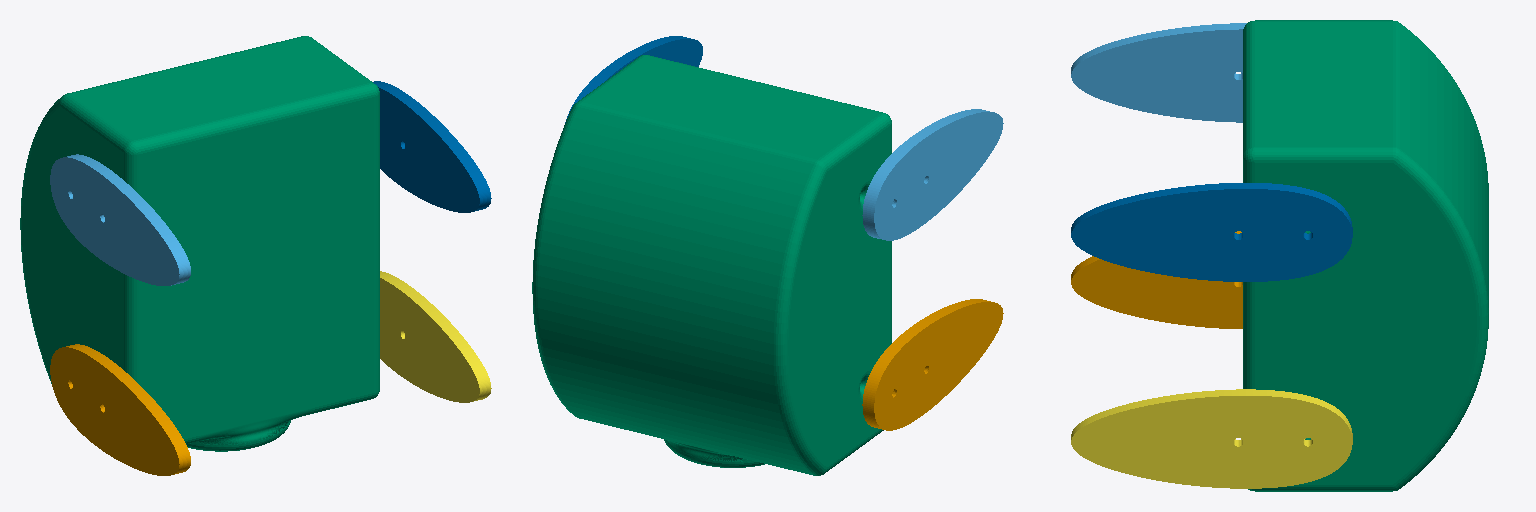
The robot description file, URDF, robot "Zusammenbau":
<?xml version='1.0' encoding='utf-8'?>
<robot name="Zusammenbau">
    <link name="Lasercut-Bein-v4_1">
        <inertial>
            <origin xyz="-7.732513815916776e-09 -0.029593108750116903 0.00969999999999997" rpy="0.0 -0.0 0.0" />
            <mass value="0.10052712077422415" />
            <inertia ixx="5.756968816404196e-05" iyy="7.802639793603192e-06" izz="6.495346495441918e-05" ixy="1.7491960679384688e-11" iyz="-5.421010862427522e-20" ixz="0.0" />
        </inertial>
        <visual name="Lasercut-Bein-v4_visual_1">
            <origin xyz="0.0 6.106226635438361e-18 0.012199999999999971" rpy="-0.0 1.5707963267948966 0" />
            <geometry>
                <mesh filename="meshes/Lasercut-Bein-v4.stl" scale="0.001 0.001 0.001" />
            </geometry>
        </visual>
        <collision name="Lasercut-Bein-v4_collision_1">
            <origin xyz="0.0 6.106226635438361e-18 0.012199999999999971" rpy="-0.0 1.5707963267948966 0" />
            <geometry>
                <mesh filename="meshes/Lasercut-Bein-v4.stl" scale="0.001 0.001 0.001" />
            </geometry>
        </collision>
    </link>
    <link name="Lasercut-Bein-v4_2">
        <inertial>
            <origin xyz="-7.732513802594099e-09 -0.029593108750116916 0.009699999999999988" rpy="0.0 -0.0 0.0" />
            <mass value="0.10052712077422415" />
            <inertia ixx="5.756968816404207e-05" iyy="7.802639793603409e-06" izz="6.495346495441923e-05" ixy="1.7491960706489743e-11" iyz="2.710505431213761e-20" ixz="5.421010862427522e-20" />
        </inertial>
        <visual name="Lasercut-Bein-v4_visual_2">
            <origin xyz="1.7763568394002505e-17 5.551115123125783e-18 0.012199999999999997" rpy="-0.0 1.5707963267948966 0" />
            <geometry>
                <mesh filename="meshes/Lasercut-Bein-v4.stl" scale="0.001 0.001 0.001" />
            </geometry>
        </visual>
        <collision name="Lasercut-Bein-v4_collision_2">
            <origin xyz="1.7763568394002505e-17 5.551115123125783e-18 0.012199999999999997" rpy="-0.0 1.5707963267948966 0" />
            <geometry>
                <mesh filename="meshes/Lasercut-Bein-v4.stl" scale="0.001 0.001 0.001" />
            </geometry>
        </collision>
    </link>
    <link name="Simplified-Body-v5">
        <inertial>
            <origin xyz="-9.069781144017234e-12 0.011212337995359445 -0.0011157121807291311" rpy="0.0 0.0 0.0" />
            <mass value="8.078195204080657" />
            <inertia ixx="0.01414825495666961" iyy="0.01794786646058807" izz="0.01161148565624303" ixy="-1.196013774368557e-12" iyz="-0.00010121621754653205" ixz="-4.671915868799006e-12" />
        </inertial>
        <visual name="Simplified-Body-v5_visual">
            <origin xyz="0.0 0.0 0.0" rpy="0.0 0.0 0.0" />
            <geometry>
                <mesh filename="meshes/Simplified-Body-v5.stl" scale="0.001 0.001 0.001" />
            </geometry>
        </visual>
        <collision name="Simplified-Body-v5_collision">
            <origin xyz="0.0 0.0 0.0" rpy="0.0 0.0 0.0" />
            <geometry>
                <mesh filename="meshes/Simplified-Body-v5.stl" scale="0.001 0.001 0.001" />
            </geometry>
        </collision>
    </link>
    <link name="Lasercut-Bein-v4_3">
        <inertial>
            <origin xyz="-7.732513798153206e-09 0.02959310875011689 0.009699999999999988" rpy="0.0 -0.0 0.0" />
            <mass value="0.10052712077422415" />
            <inertia ixx="5.756968816404196e-05" iyy="7.8026397936033e-06" izz="6.495346495441912e-05" ixy="-1.7491960706489743e-11" iyz="-5.421010862427522e-20" ixz="5.421010862427522e-20" />
        </inertial>
        <visual name="Lasercut-Bein-v4_visual_3">
            <origin xyz="2.2204460492503132e-17 -4.996003610813204e-18 0.007199999999999998" rpy="-3.141592653589793 -1.5707963267948966 0" />
            <geometry>
                <mesh filename="meshes/Lasercut-Bein-v4.stl" scale="0.001 0.001 0.001" />
            </geometry>
        </visual>
        <collision name="Lasercut-Bein-v4_collision_3">
            <origin xyz="2.2204460492503132e-17 -4.996003610813204e-18 0.007199999999999998" rpy="-3.141592653589793 -1.5707963267948966 0" />
            <geometry>
                <mesh filename="meshes/Lasercut-Bein-v4.stl" scale="0.001 0.001 0.001" />
            </geometry>
        </collision>
    </link>
    <link name="Lasercut-Bein-v4_4">
        <inertial>
            <origin xyz="-7.73251382479856e-09 0.02959310875011689 0.009699999999999988" rpy="0.0 -0.0 0.0" />
            <mass value="0.10052712077422415" />
            <inertia ixx="5.756968816404196e-05" iyy="7.8026397936033e-06" izz="6.495346495441918e-05" ixy="-1.7491960706489743e-11" iyz="-5.421010862427522e-20" ixz="0.0" />
        </inertial>
        <visual name="Lasercut-Bein-v4_visual_4">
            <origin xyz="-4.440892098500626e-18 -4.996003610813204e-18 0.007199999999999998" rpy="-3.141592653589793 -1.5707963267948966 0" />
            <geometry>
                <mesh filename="meshes/Lasercut-Bein-v4.stl" scale="0.001 0.001 0.001" />
            </geometry>
        </visual>
        <collision name="Lasercut-Bein-v4_collision_4">
            <origin xyz="-4.440892098500626e-18 -4.996003610813204e-18 0.007199999999999998" rpy="-3.141592653589793 -1.5707963267948966 0" />
            <geometry>
                <mesh filename="meshes/Lasercut-Bein-v4.stl" scale="0.001 0.001 0.001" />
            </geometry>
        </collision>
    </link>
    <joint name="Simplified-Body-v5_Revolute-1" type="revolute">
        <origin xyz="-0.054000000000000006 -0.004 -0.0385" rpy="-0.0 -1.5707963267948966 0" />
        <parent link="Simplified-Body-v5" />
        <child link="Lasercut-Bein-v4_1" />
        <axis xyz="0.0 0.0 1.0" />
        <limit lower="-1.570796" upper="1.570796" effort="1000000" velocity="1000000" />
    </joint>
    <joint name="Simplified-Body-v5_Revolute-2" type="revolute">
        <origin xyz="-0.054000000000000006 -0.004 0.0385" rpy="-0.0 -1.5707963267948966 0" />
        <parent link="Simplified-Body-v5" />
        <child link="Lasercut-Bein-v4_2" />
        <axis xyz="0.0 0.0 1.0" />
        <limit lower="-1.570796" upper="1.570796" effort="1000000" velocity="1000000" />
    </joint>
    <joint name="Simplified-Body-v5_Revolute-3" type="revolute">
        <origin xyz="0.054000000000000006 -0.004 -0.0385" rpy="-3.141592653589793 -1.5707963267948966 0" />
        <parent link="Simplified-Body-v5" />
        <child link="Lasercut-Bein-v4_3" />
        <axis xyz="0.0 0.0 1.0" />
        <limit lower="-1.570796" upper="1.570796" effort="1000000" velocity="1000000" />
    </joint>
    <joint name="Simplified-Body-v5_Revolute-4" type="revolute">
        <origin xyz="0.054000000000000006 -0.004 0.0385" rpy="-3.141592653589793 -1.5707963267948966 0" />
        <parent link="Simplified-Body-v5" />
        <child link="Lasercut-Bein-v4_4" />
        <axis xyz="0.0 0.0 1.0" />
        <limit lower="-1.570796" upper="1.570796" effort="1000000" velocity="1000000" />
    </joint>
</robot>

--- Render facts (derived) ---
Views: 3 orthographic renders of the robot side by side, from view 1: azimuth 30°, elevation 25°; view 2: azimuth 150°, elevation 25°; view 3: azimuth 270°, elevation 25°.
Robot: Zusammenbau — 5 links, 4 joints (4 revolute); root link Simplified-Body-v5; default pose: all joints at 0.
Links seen in each view (by area): view 1: Simplified-Body-v5, Lasercut-Bein-v4_2, Lasercut-Bein-v4_1, Lasercut-Bein-v4_4, Lasercut-Bein-v4_3; view 2: Simplified-Body-v5, Lasercut-Bein-v4_2, Lasercut-Bein-v4_1, Lasercut-Bein-v4_4; view 3: Simplified-Body-v5, Lasercut-Bein-v4_3, Lasercut-Bein-v4_4, Lasercut-Bein-v4_2, Lasercut-Bein-v4_1.
Boxes of the visible links, x1,y1,x2,y2 form: Simplified-Body-v5: (20, 36, 379, 451); Lasercut-Bein-v4_2: (50, 154, 190, 285); Lasercut-Bein-v4_1: (50, 344, 190, 475); Lasercut-Bein-v4_4: (373, 81, 491, 212); Lasercut-Bein-v4_3: (380, 271, 491, 402); Simplified-Body-v5: (532, 55, 891, 475); Lasercut-Bein-v4_2: (862, 109, 1003, 240); Lasercut-Bein-v4_1: (862, 299, 1003, 430); Lasercut-Bein-v4_4: (565, 36, 702, 122); Simplified-Body-v5: (1243, 20, 1488, 491); Lasercut-Bein-v4_3: (1071, 389, 1352, 488); Lasercut-Bein-v4_4: (1071, 183, 1352, 281); Lasercut-Bein-v4_2: (1071, 23, 1246, 122); Lasercut-Bein-v4_1: (1071, 231, 1242, 328).
Size in the robot's own frame: 0.1324 by 0.141 by 0.136 metres.
Meshes: 2 distinct files referenced, 5 mesh visuals loaded (2 binary STL).